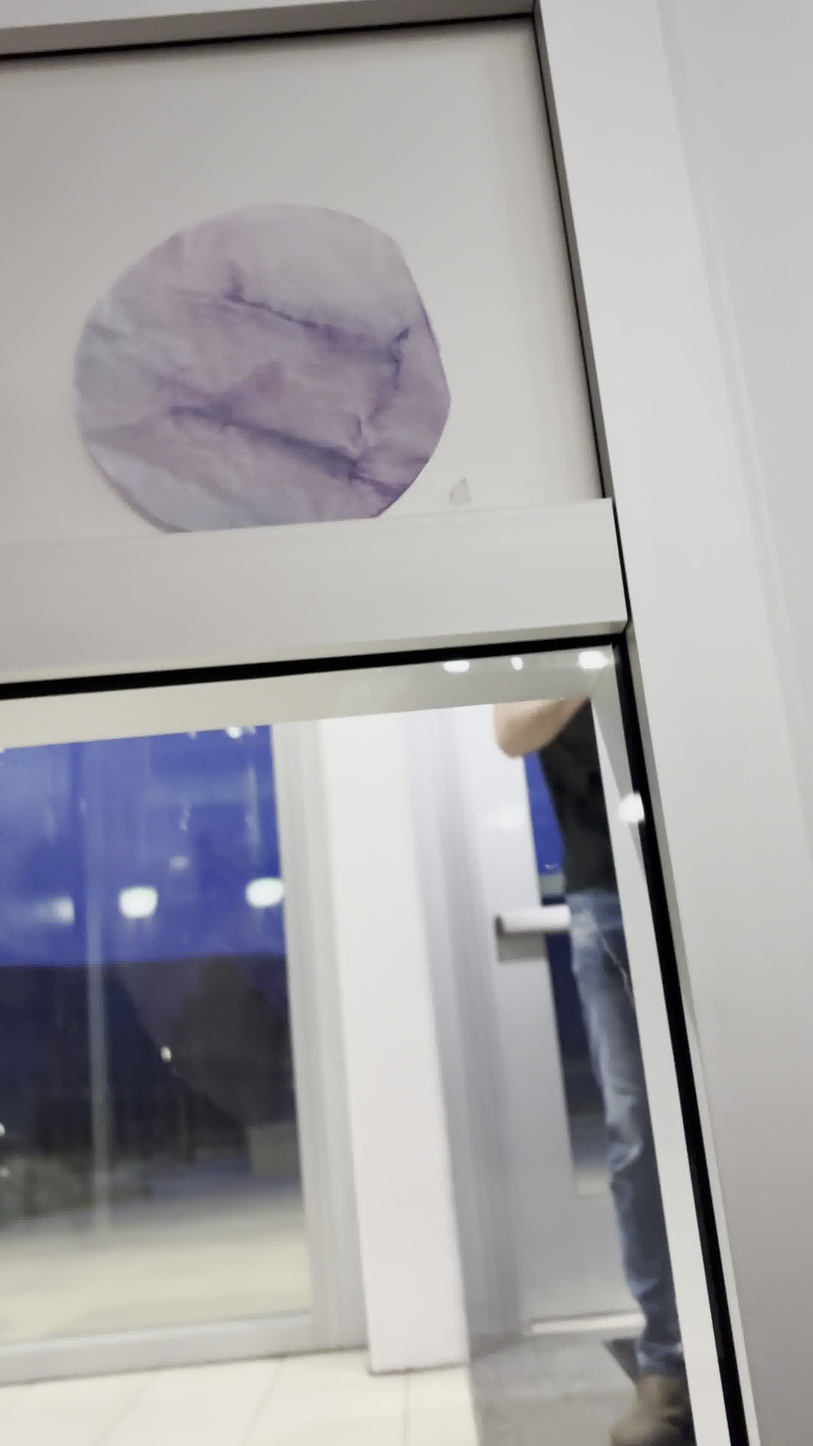Target: (62, 201, 463, 545)
